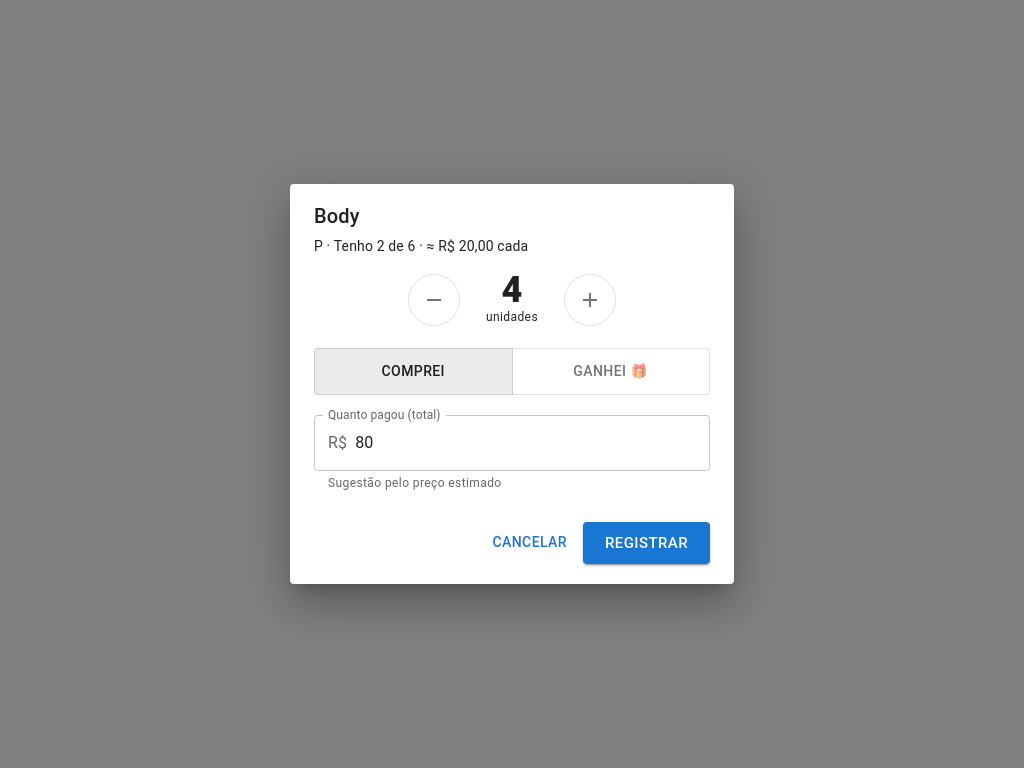
Test: RegistrarCompraDialog › sugere o que falta e o valor estimado, que acompanha a quantidade
Expected: the text "4" is shown, [501,272,523,308]
Expected: the number field labelled "Quanto pagou (total)" holds "80", [355,415,710,471]
Click the button named "Menos uma unidade": (434, 300) [408,274,460,326]
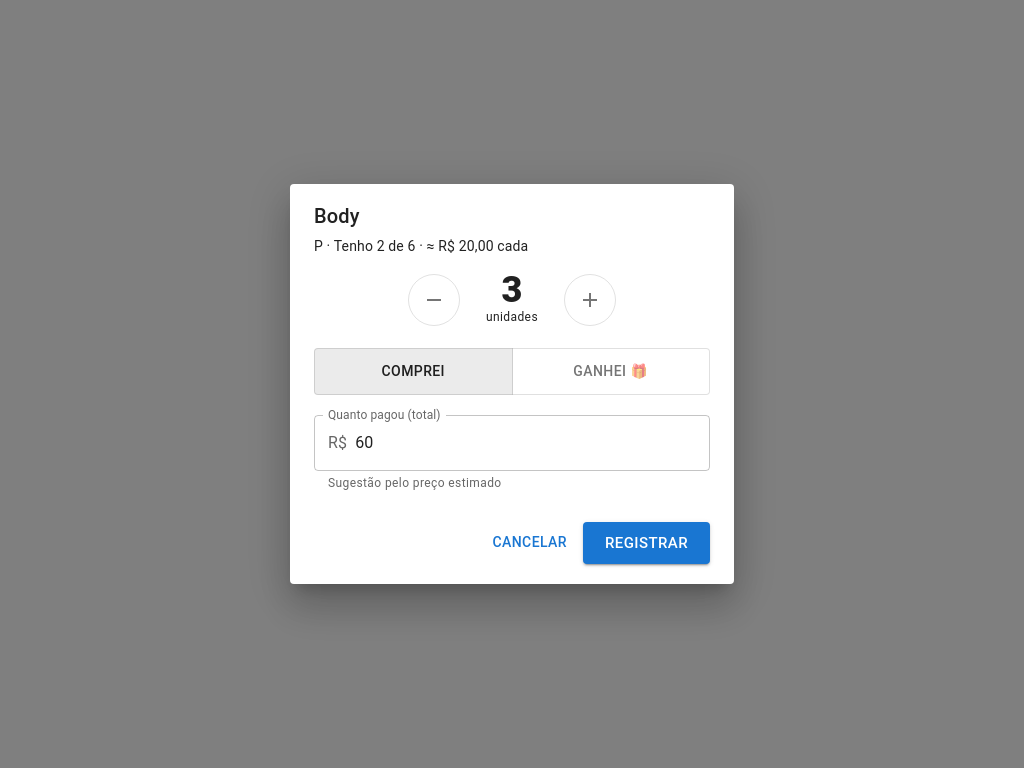
Now the number field labelled "Quanto pagou (total)" holds "60", box [355,415,710,471]
